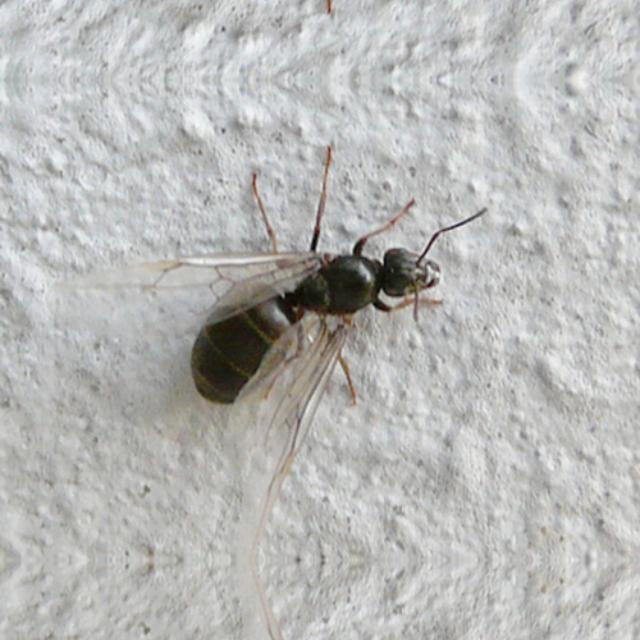Lasius: (150, 162, 450, 464)
